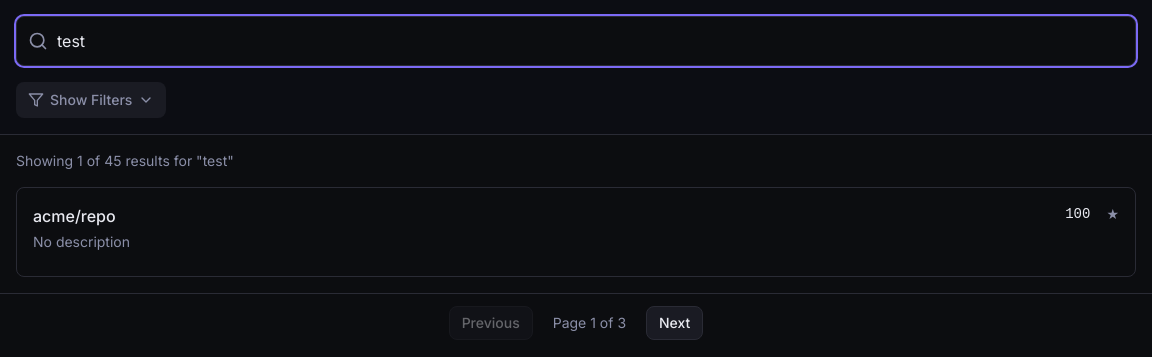
Test: SearchPanel pagination › shows a pinned pagination footer and Next advances the page
expect the text "Page 1 of 3" is shown: met, box [553,314,626,331]
expect the button with aria-label "previous page" is disabled: met, box [449,306,533,340]
What coordinates should you click on to do the following:
click the button with aria-label "next page"
I would click on:
 (675, 323)
Its box is [646,306,703,340].
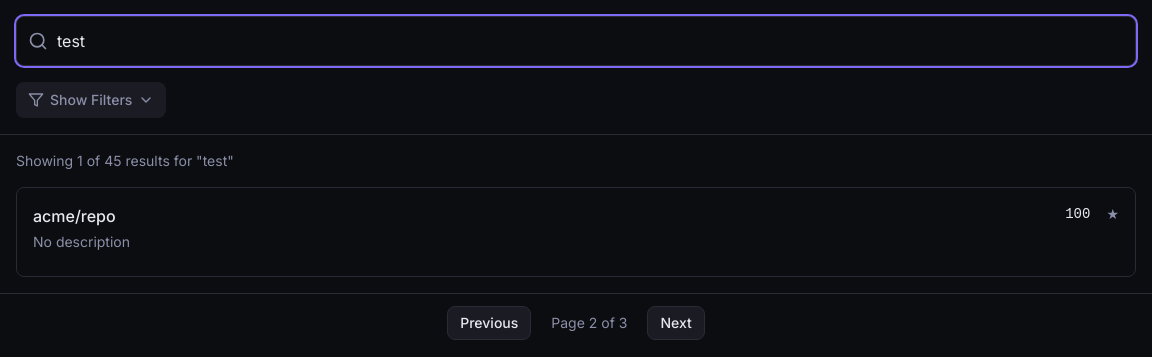
expect the text "Page 2 of 3" is shown: met, box [551,314,628,331]
